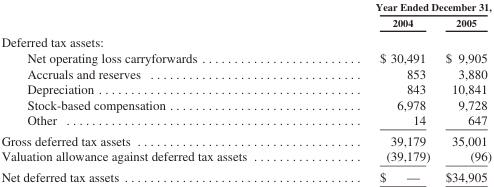table: (0, 0, 490, 183)
table column: (0, 0, 310, 183), (310, 0, 437, 183), (437, 0, 490, 183)
table column header: (0, 0, 490, 31)
table projected row header: (0, 31, 490, 49)
table row: (0, 129, 490, 148), (0, 31, 490, 49), (0, 111, 490, 129), (0, 148, 490, 166), (0, 14, 490, 31), (0, 166, 490, 183), (0, 49, 490, 65), (0, 80, 490, 96), (0, 65, 490, 80), (0, 96, 490, 111), (0, 0, 490, 14)
table spanning cell: (310, 0, 490, 14)
